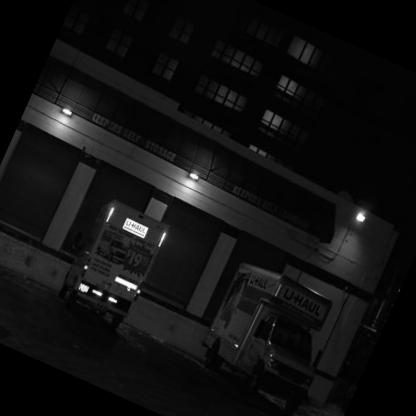truck: (187, 251, 359, 416), (55, 182, 201, 346)
